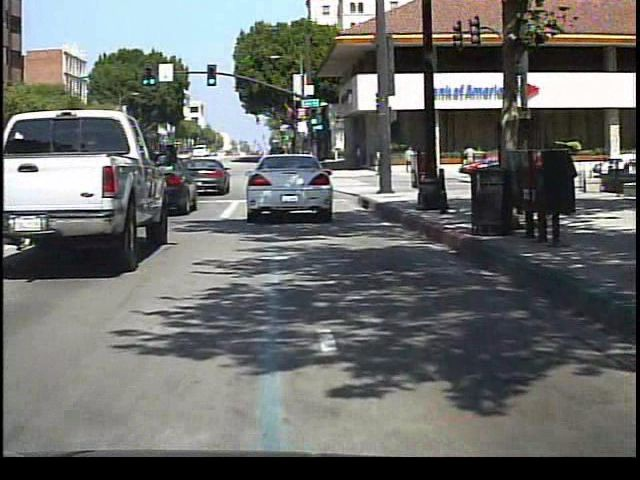person: (459, 139, 479, 174), (401, 143, 419, 176)
